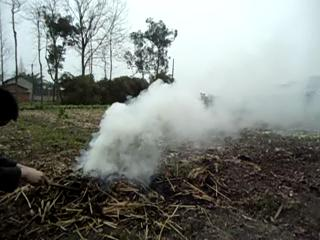yanwu: (84, 68, 304, 179)
